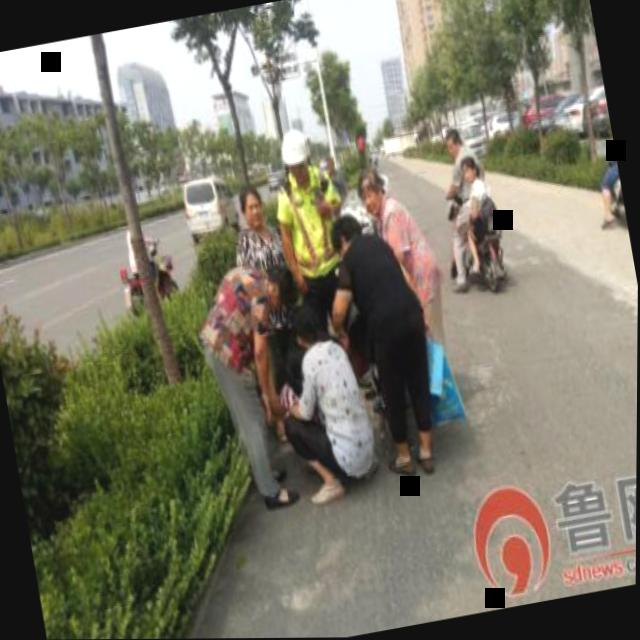Fall-Detected: (255, 291, 387, 510)
